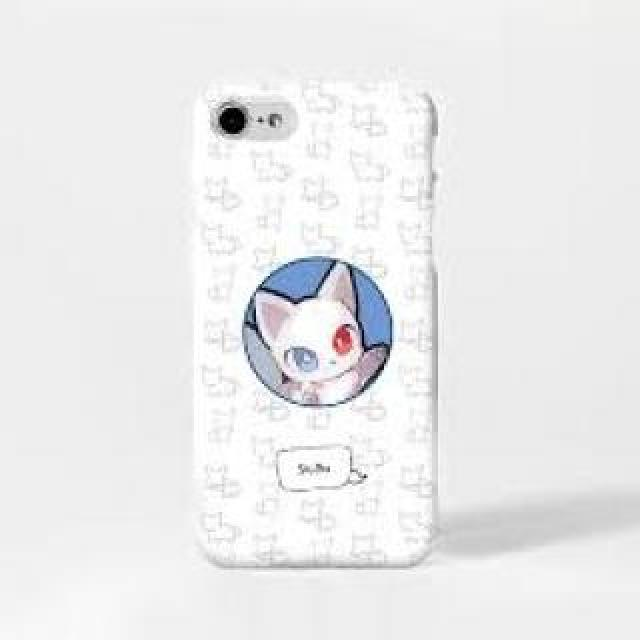smart phone: (205, 46, 453, 582)
